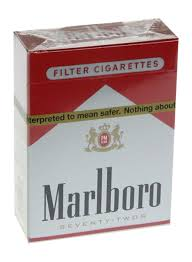marlboro: (28, 42, 174, 239)
